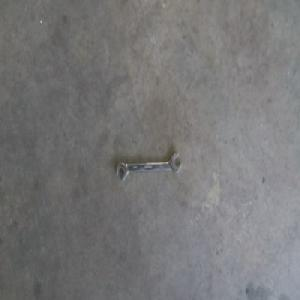Wrench: (115, 148, 182, 175)
